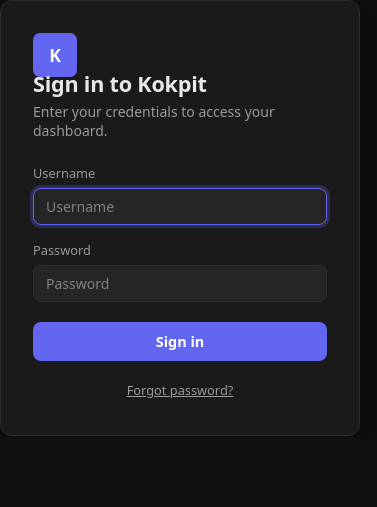
Test: LoginForm - credentials step › shows a missing challenge token error and stays on the credentials step
The width and height of the screenshot is (377, 507).
Type "admin" into the field with placeholder "Username" at (180, 206), box x1=33 y1=188 x2=327 y2=225
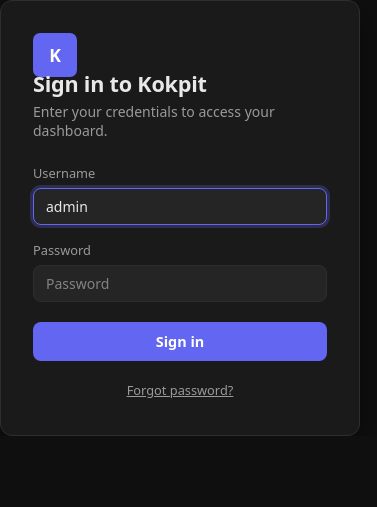
Type "secret" into the password field with placeholder "Password" at (180, 284), box x1=33 y1=265 x2=327 y2=302
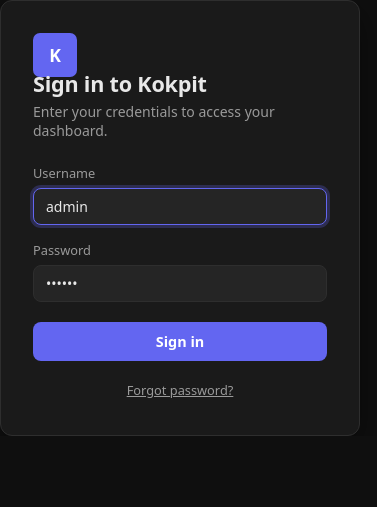
Click the button "Sign in" at (180, 342), box x1=33 y1=322 x2=327 y2=361
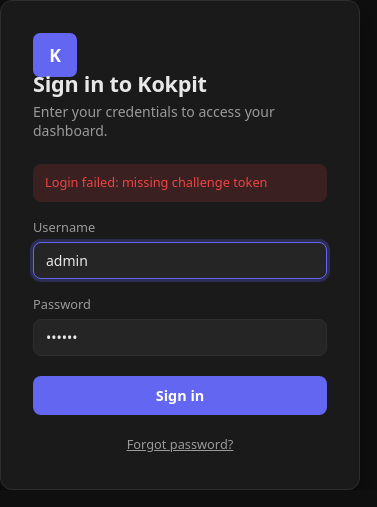
Expected: the heading "Sign in to Kokpit" is shown, x1=33 y1=69 x2=207 y2=98
Expected: the text "Login failed: missing challenge token" is shown, x1=33 y1=164 x2=327 y2=202
